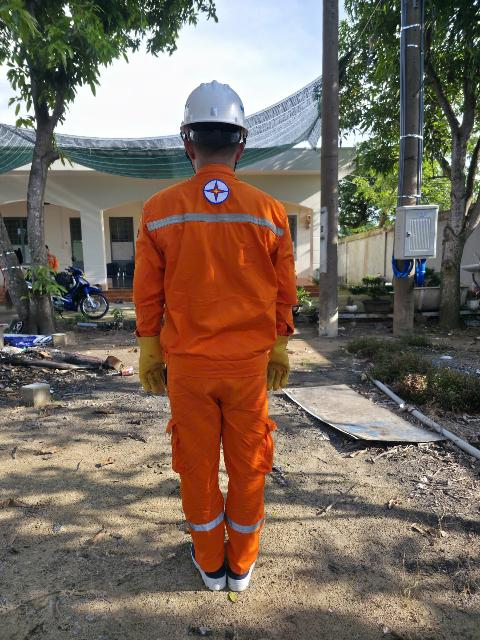gloves: (128, 315, 182, 406), (255, 322, 299, 405)
helmet: (171, 72, 269, 146)
shoes: (224, 538, 266, 594), (187, 539, 227, 596)
